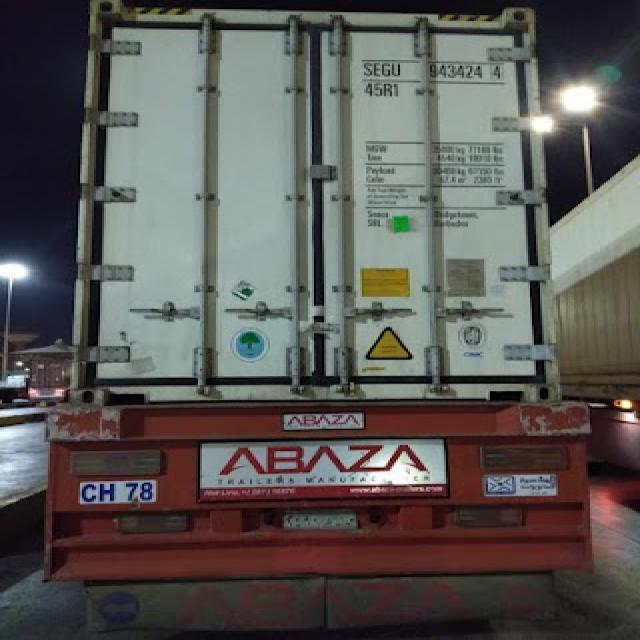ISO: (366, 82, 401, 98)
container_number: (360, 56, 508, 80)
